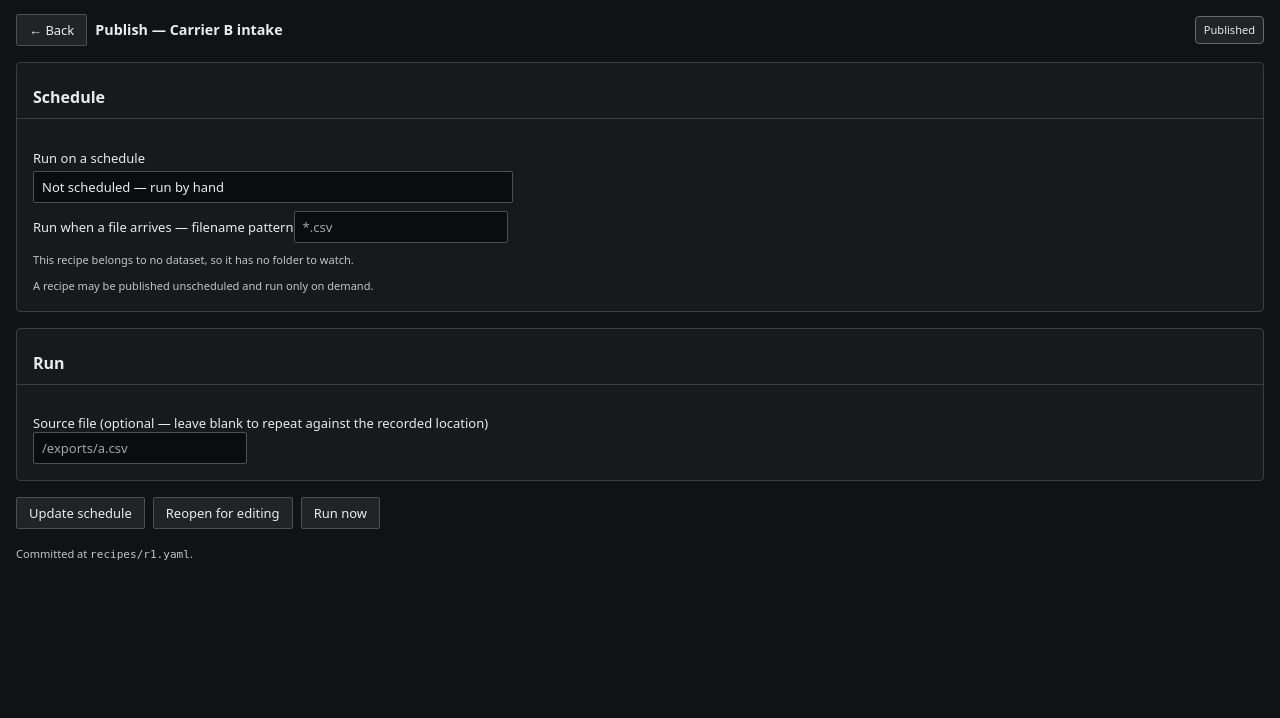
Scenario: Publish: a run into a case that already holds its rows › says nothing about it when none were already loaded, or the report does not carry it
Click the button "Run now": (340, 513) [301,497,380,529]
(page scrolled)
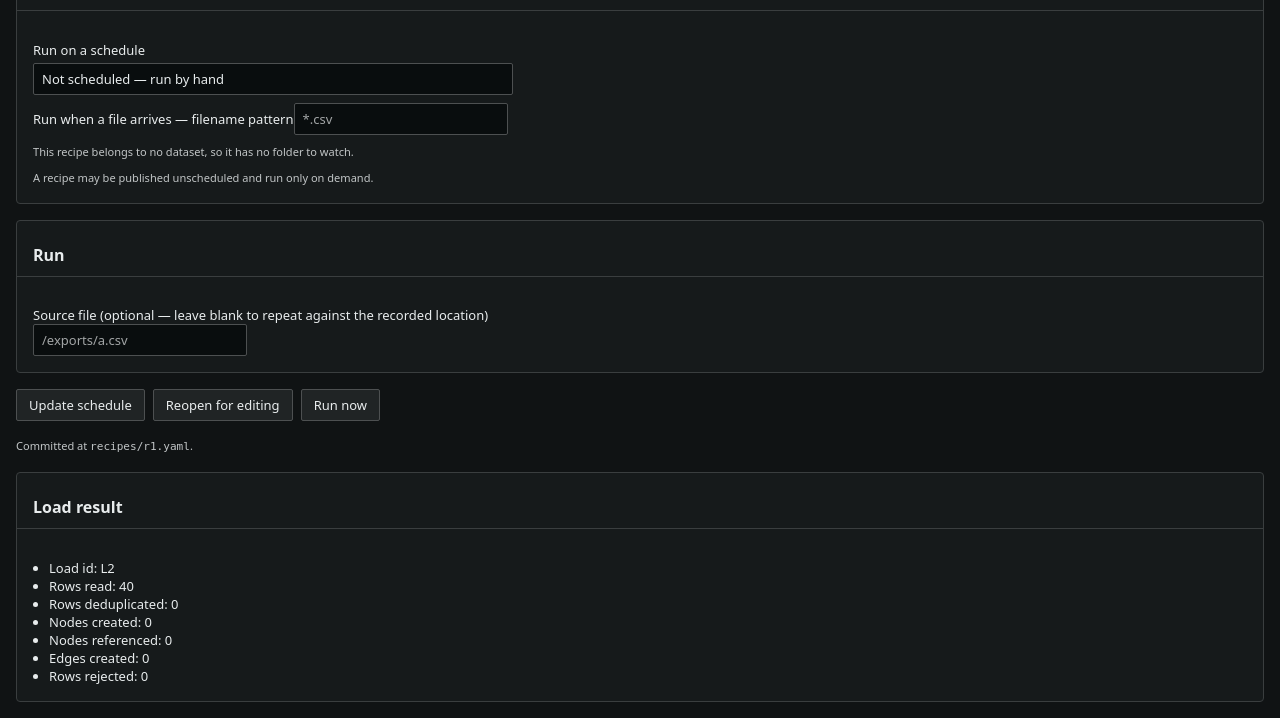
Expected: the list item "Nodes created: 0" is shown, [49,613,152,631]
